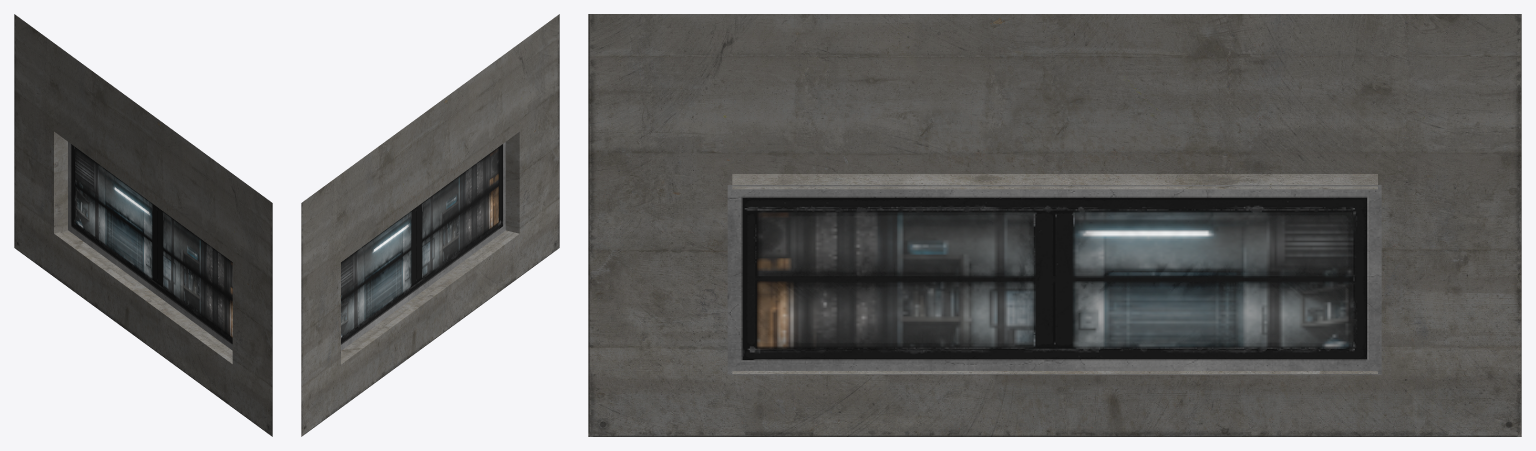
File: CP_Windows_B_4x2m_02.fbx
3 views of the same model, side by side, from view 1: azimuth 30°, elevation 25°; view 2: azimuth 150°, elevation 25°; view 3: azimuth 270°, elevation 25° (orthographic). The views are drawn at different scales.
Parts seen in each view (by area): view 1: CP_Windows_B_4x2m_02; view 2: CP_Windows_B_4x2m_02; view 3: CP_Windows_B_4x2m_02.
Part boxes in pixels (x1,y1,x2,y2): CP_Windows_B_4x2m_02: [14, 14, 272, 436]; CP_Windows_B_4x2m_02: [301, 14, 559, 436]; CP_Windows_B_4x2m_02: [588, 14, 1521, 436].
Bounding box in the file's own units: 15.54 × 200 × 400.
